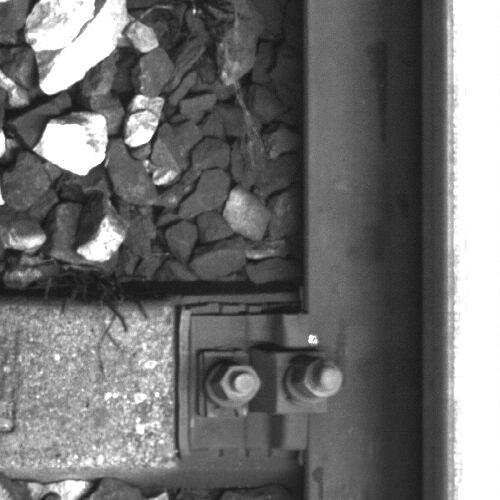kb: (189, 315, 345, 447)
nut: (211, 358, 265, 404), (290, 356, 343, 401)
rail: (446, 1, 500, 500)
tie_concr: (1, 298, 301, 476)
